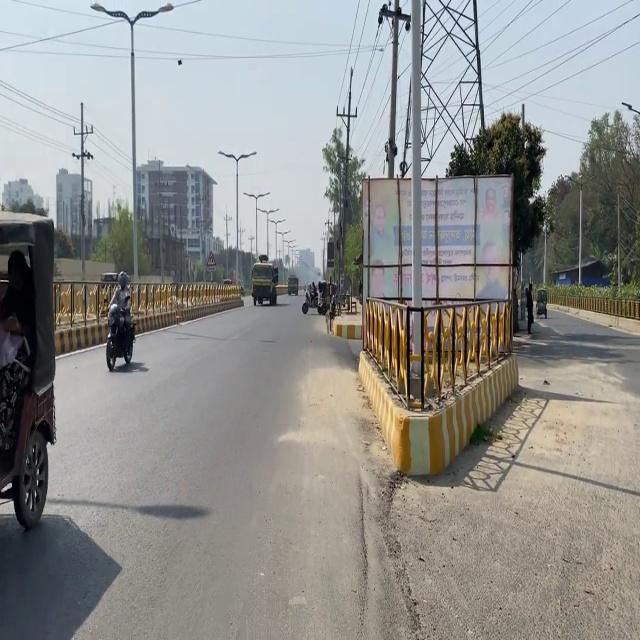Car: (354, 290, 519, 476)
Construction-barrier: (53, 307, 178, 358), (543, 299, 639, 335), (327, 295, 362, 340)
Fallen-tree: (104, 293, 136, 372), (301, 280, 328, 314)
Garbage-bin: (106, 270, 133, 349)
Light-pole: (408, 0, 425, 410)
Traffic-cone: (0, 209, 57, 530), (250, 254, 277, 305)
